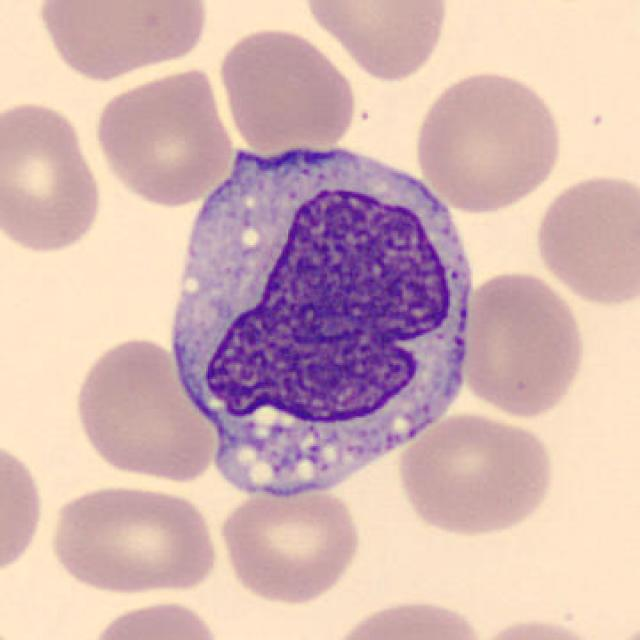Monocyte: (155, 127, 487, 499)
RBC: (411, 65, 565, 215), (70, 333, 220, 485), (395, 409, 558, 540), (43, 480, 222, 598), (90, 65, 237, 208), (457, 266, 590, 422), (215, 23, 359, 153), (217, 482, 364, 606), (0, 97, 107, 257), (30, 0, 214, 83), (530, 168, 638, 308), (299, 0, 453, 83), (323, 592, 489, 640), (0, 434, 48, 584), (82, 596, 226, 640), (468, 612, 615, 640)
